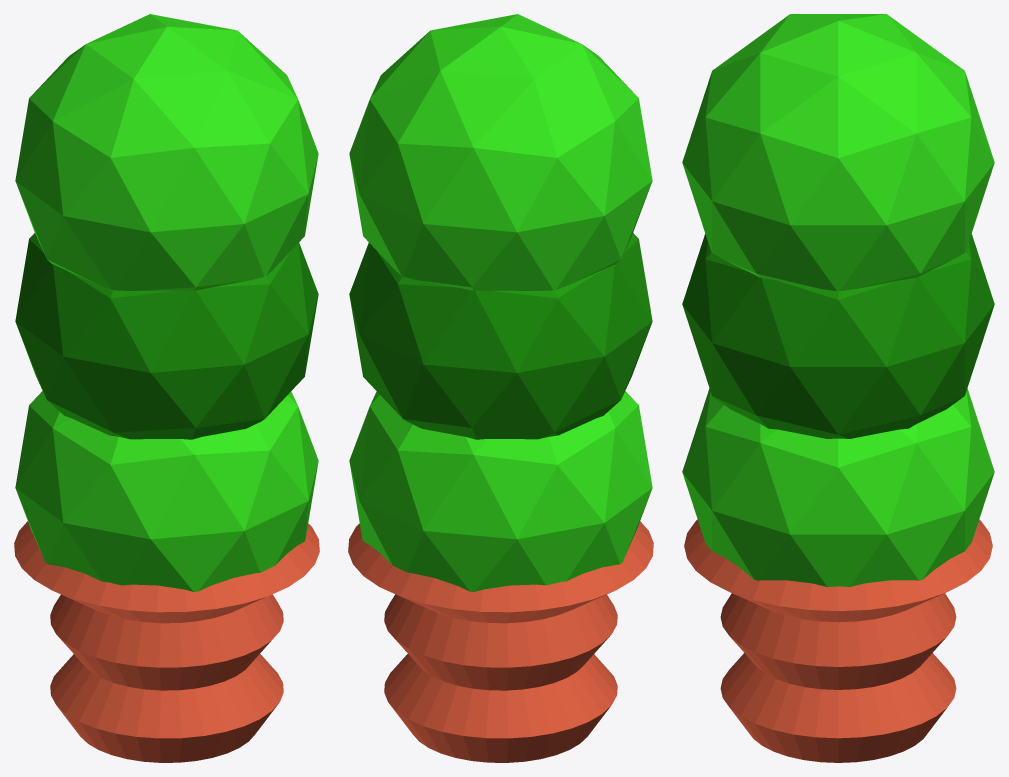
Rendered from vaso.glb.
The picture shows the model from 3 angles, left to right: view 1: azimuth 30°, elevation 25°; view 2: azimuth 150°, elevation 25°; view 3: azimuth 270°, elevation 25°; orthographic projection.
Parts seen in each view (by area): view 1: Icosphere.001; view 2: Icosphere.001; view 3: Icosphere.001.
Part boxes in pixels (left/top/right/bottom): Icosphere.001: left=14, top=14, right=319, bottom=762; Icosphere.001: left=348, top=14, right=653, bottom=762; Icosphere.001: left=682, top=14, right=994, bottom=762.
Size of the model in its own units: 1.98 by 4.97 by 2.
1 material, 1 textured.
